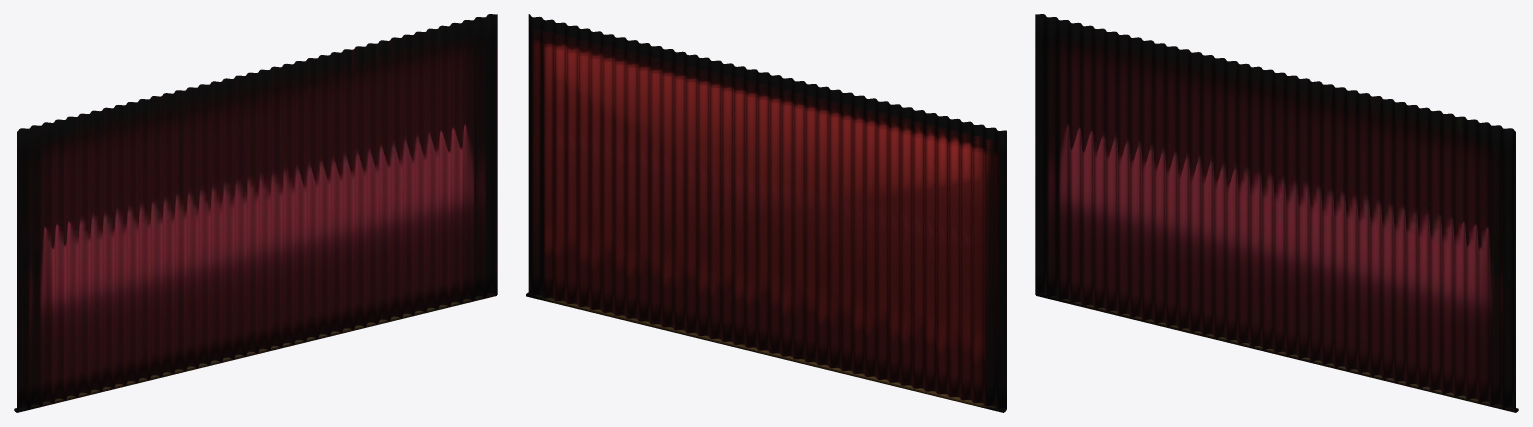
The model's file is cinema_curtain.glb.
3 renders of one model, left to right at view 1: azimuth 30°, elevation 25°; view 2: azimuth 150°, elevation 25°; view 3: azimuth 330°, elevation 25°, orthographic.
Parts seen in each view (by area): view 1: curtain; view 2: curtain; view 3: curtain.
Part boxes in pixels (x1,y1,x2,y2): curtain: [14, 14, 497, 412]; curtain: [526, 14, 1006, 412]; curtain: [1035, 14, 1518, 412].
Size of the model in its own units: 22.82 by 12.78 by 0.26.
Materials: 1 (1 with a texture image).
